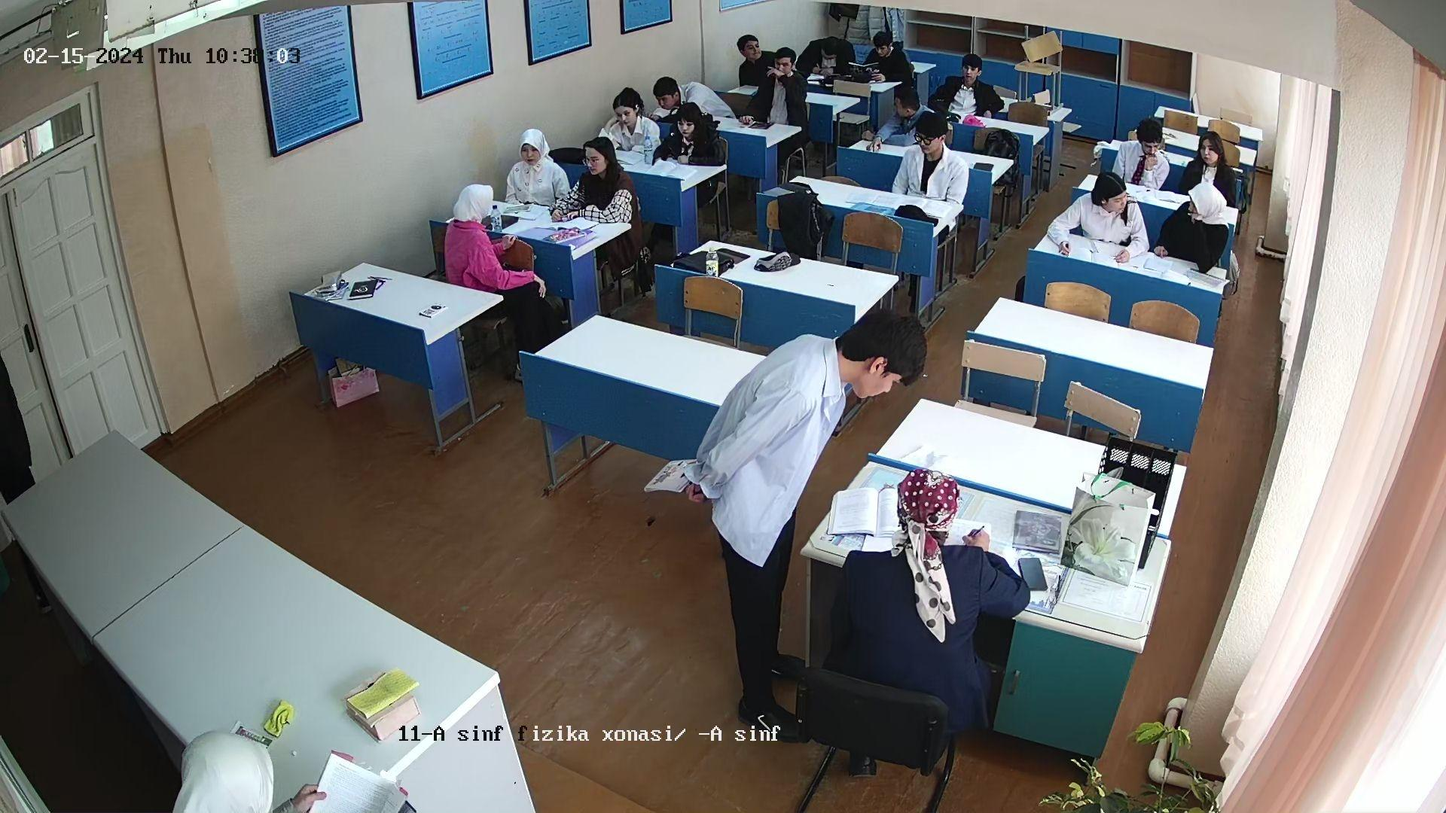Hand Under Table: (643, 78, 727, 110), (944, 167, 969, 212), (889, 160, 911, 195)
Look Around: (1165, 188, 1234, 271), (1083, 174, 1132, 226), (887, 90, 929, 123), (738, 33, 771, 70)
Normal: (577, 142, 639, 232), (503, 130, 562, 206), (661, 104, 719, 172), (859, 33, 912, 84), (1191, 127, 1234, 185), (1128, 124, 1171, 181), (603, 86, 640, 138)
Stand Up: (688, 307, 913, 709)
